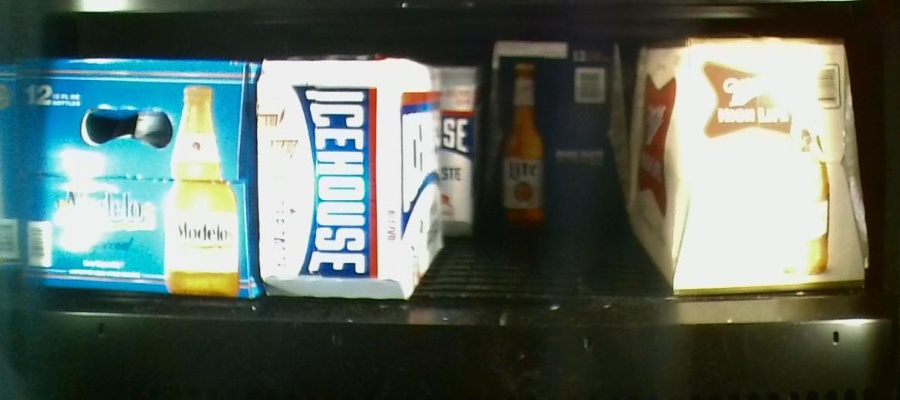bottle: (632, 34, 871, 293), (4, 59, 254, 301), (254, 58, 440, 293), (489, 39, 627, 232)
